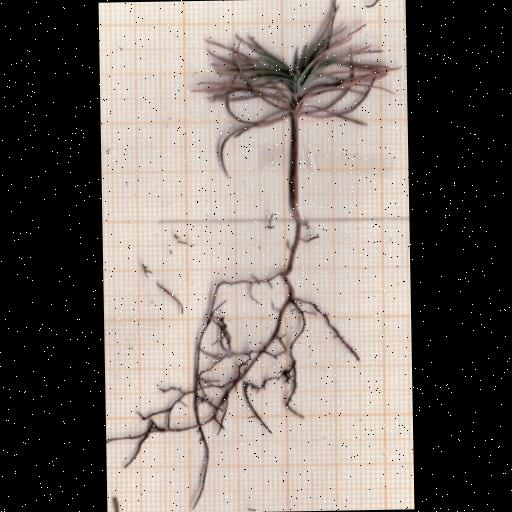flowerCedr: (202, 0, 395, 175)
rootCedr: (106, 212, 305, 508)
stemCedr: (287, 114, 299, 212)
